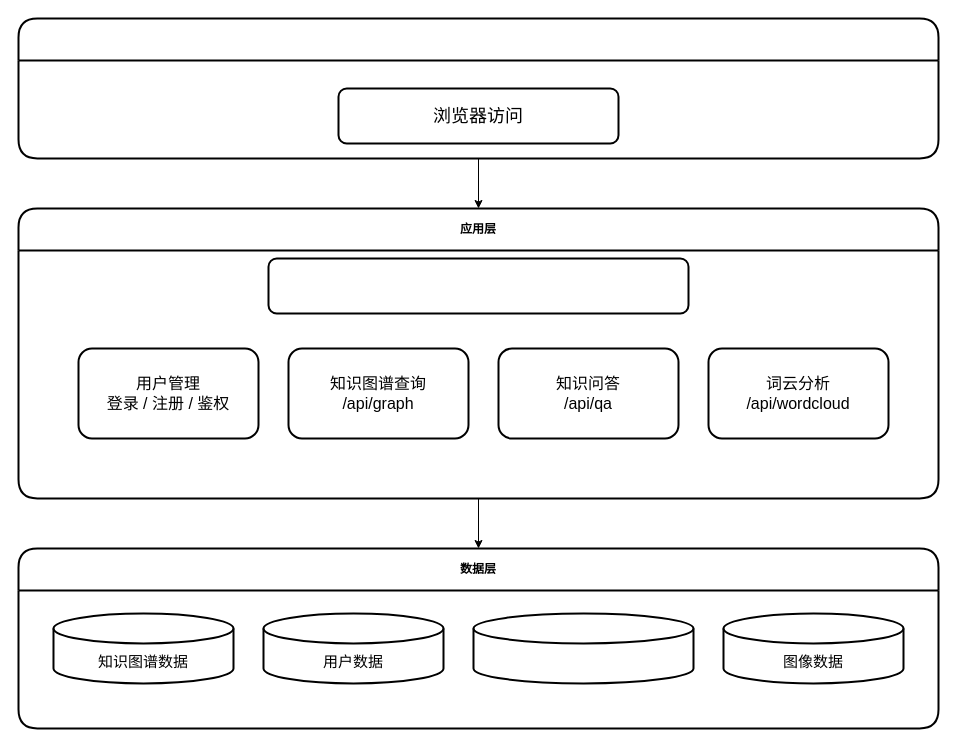
This 956x746 diagram has some shape labels left out. The shapes that lost their labels are listed below. From the top down, each one's box as (x1, y1, x2, y2) in pixels, then its label:
(17, 17, 939, 159): 用户层
(267, 257, 689, 314): Flask Web服务
(472, 612, 694, 684): 概念关系数据
